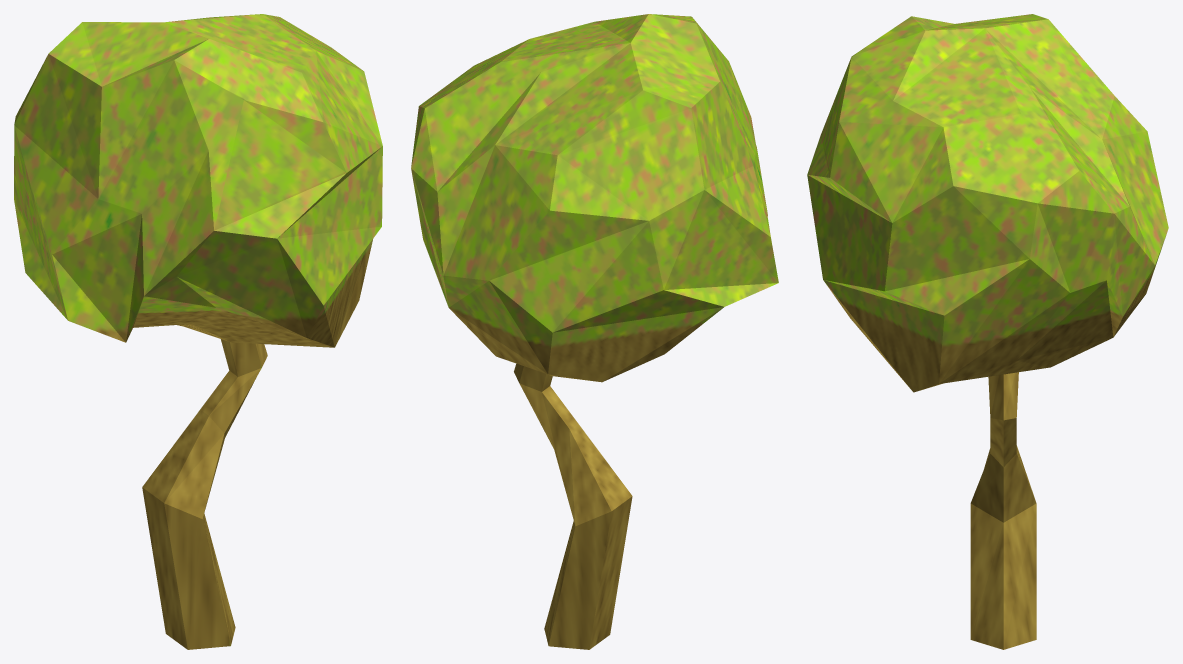
File: my_mesh_Tree2.glb
3 renders of one model, left to right at view 1: azimuth 30°, elevation 25°; view 2: azimuth 150°, elevation 25°; view 3: azimuth 270°, elevation 25°, orthographic. The views are drawn at different scales.
Visible parts, largest first — view 1: Tree2; view 2: Tree2; view 3: Tree2.
Boxes of the visible parts, bbox=[...] form: Tree2: bbox=[14, 14, 382, 649]; Tree2: bbox=[411, 14, 778, 649]; Tree2: bbox=[807, 14, 1168, 649].
Size of the model in its own units: 10.46 by 19.29 by 10.74.
Materials: 1 (1 with a texture image).
